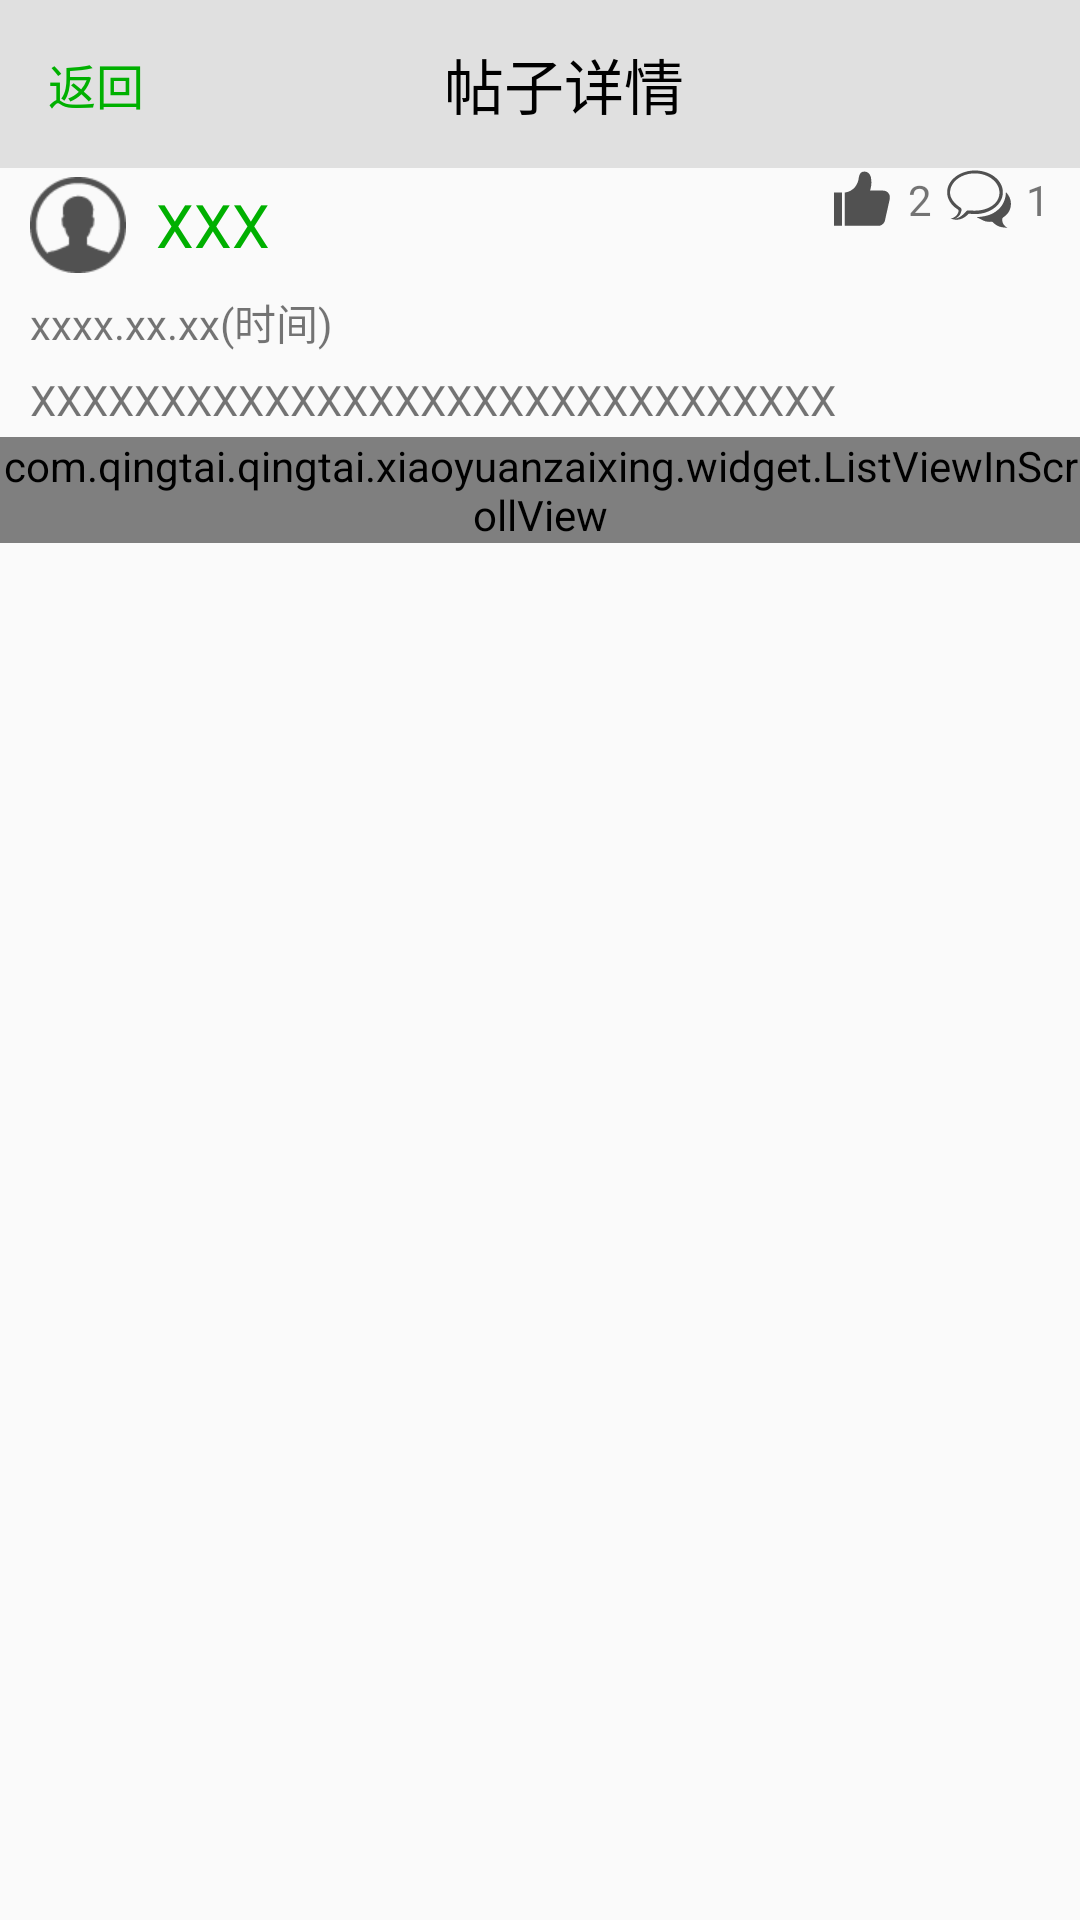

Point at icon controls on the screen. Image size 1080*1920, points as (x=x, y=y).
comment: (x=979, y=199)
favour: (x=862, y=198)
